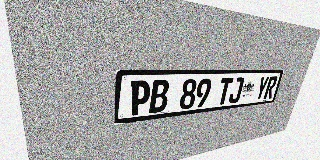8: (179, 79, 198, 110)
9: (194, 78, 213, 108)
B: (149, 80, 170, 113)
J: (228, 77, 245, 104)
P: (129, 80, 151, 116)
R: (263, 76, 278, 99)
T: (216, 78, 234, 105)
Y: (254, 76, 270, 100)
